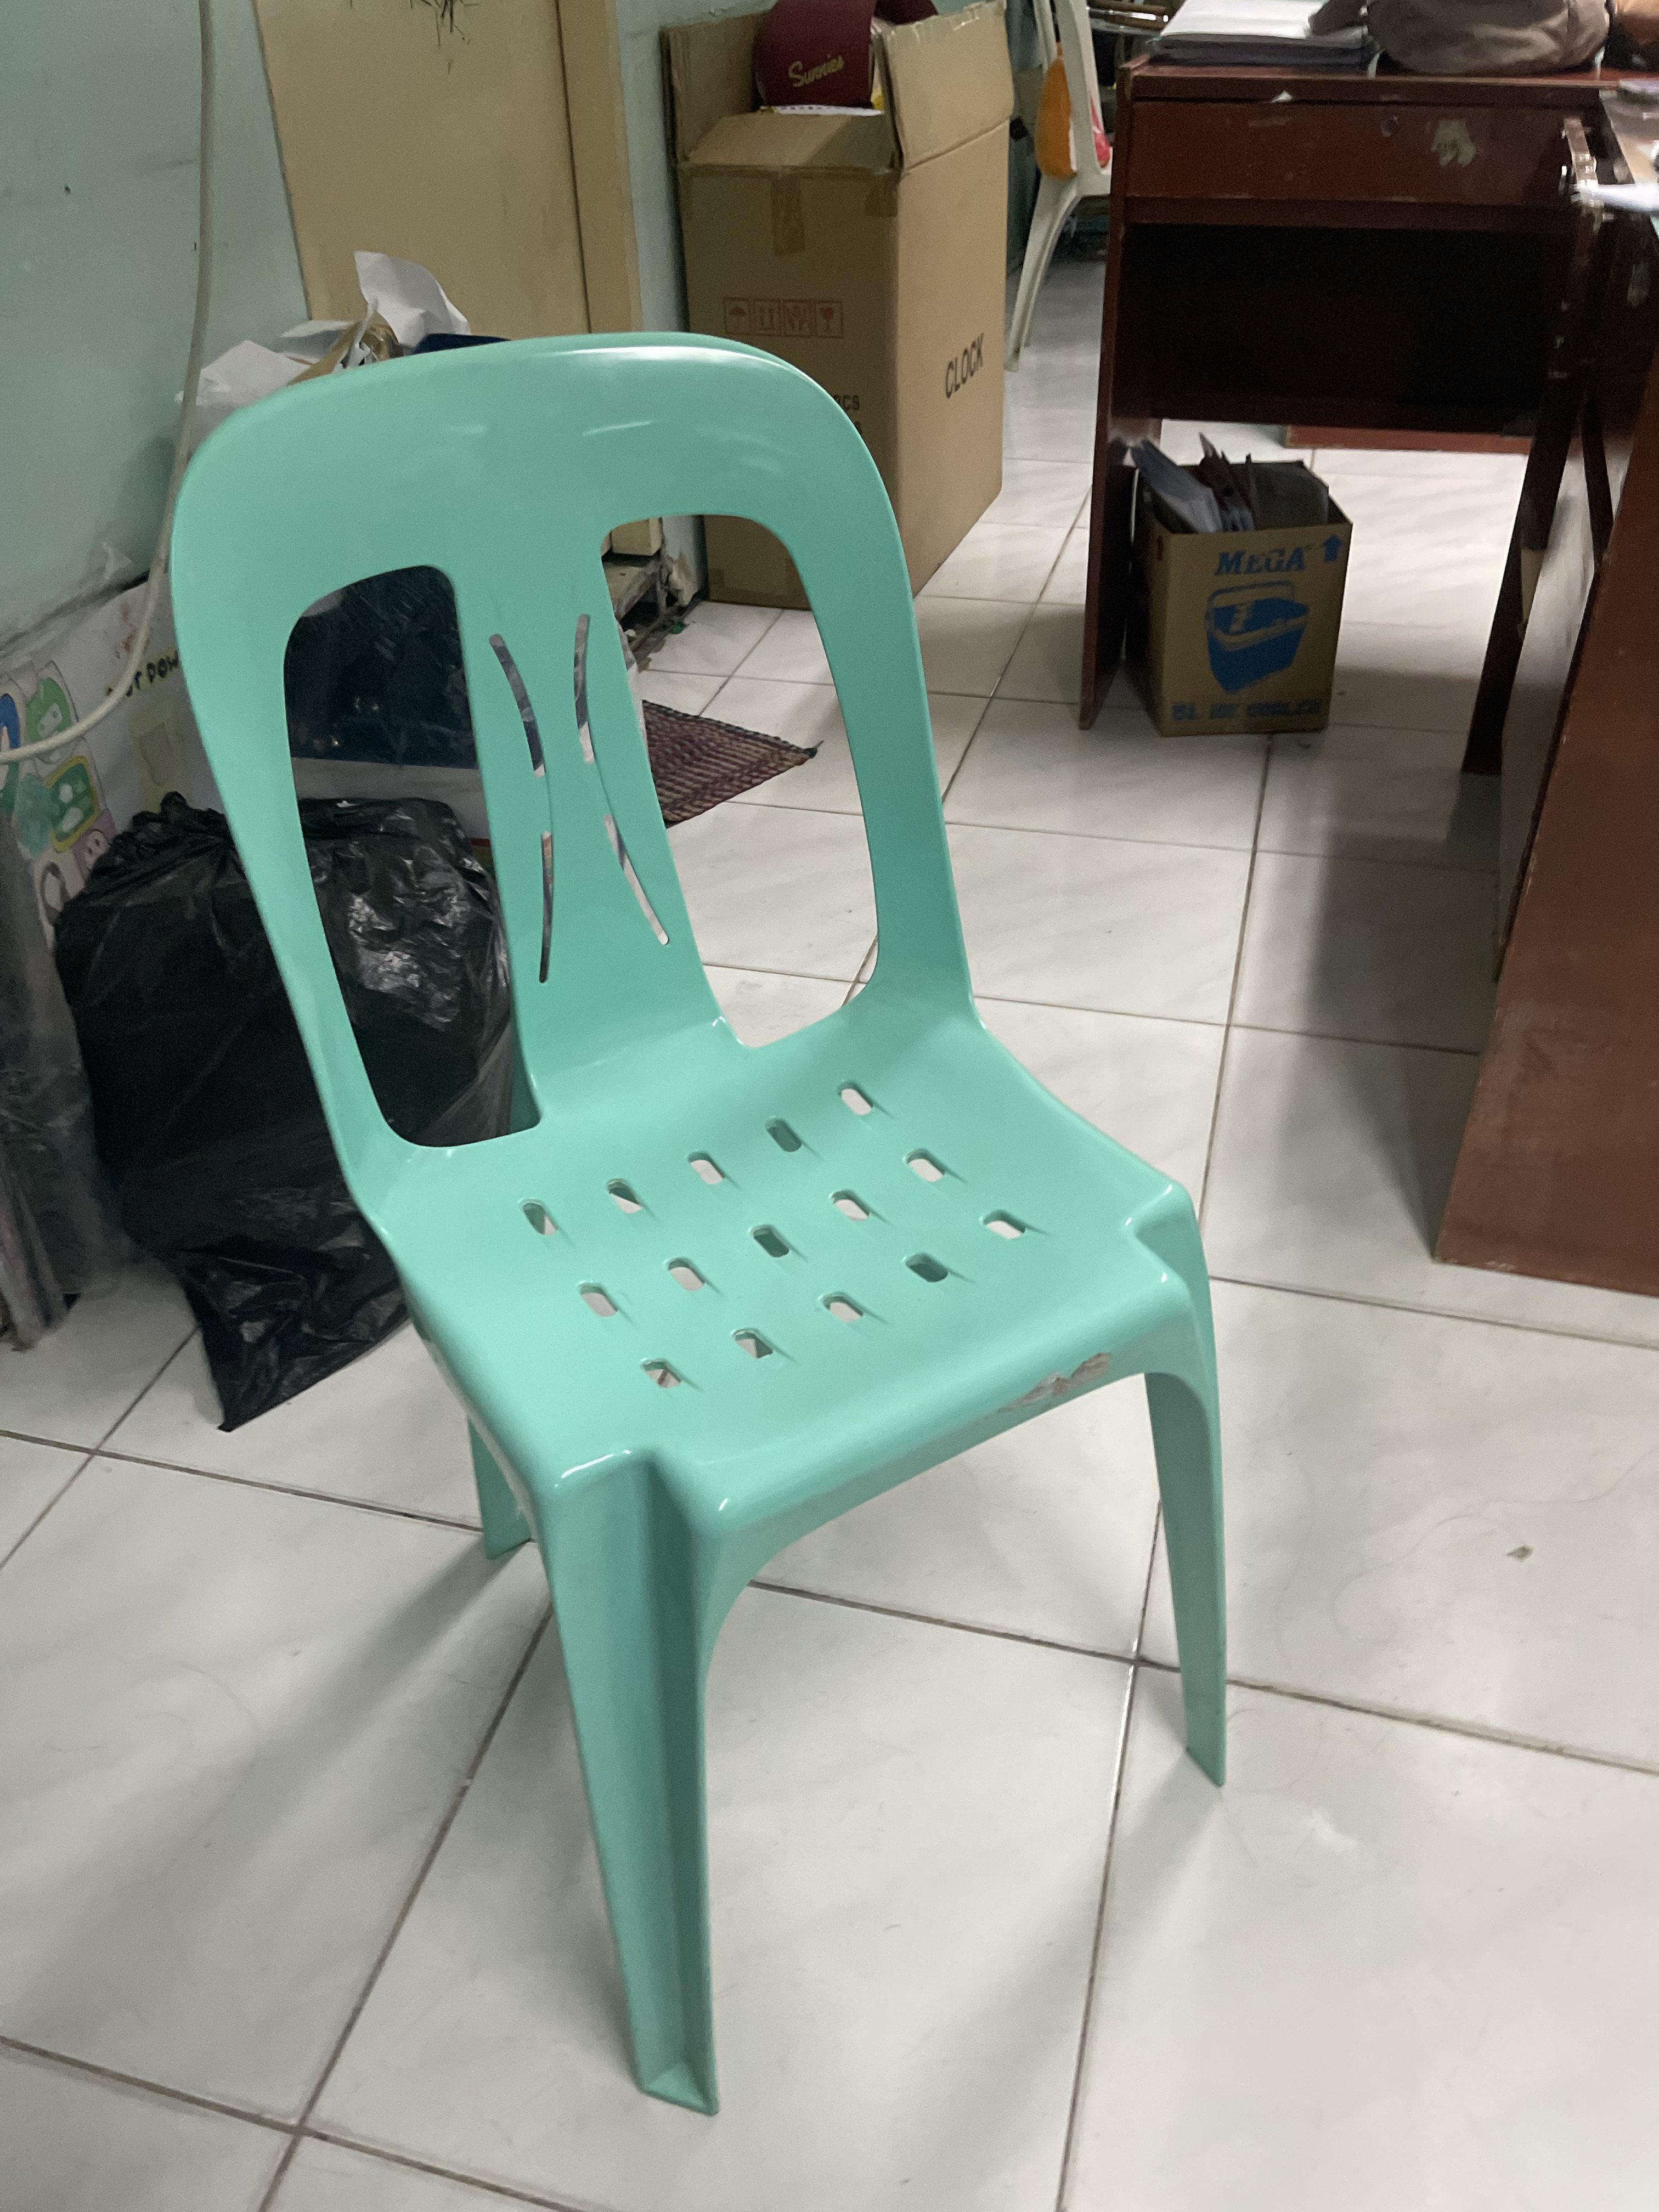chair2: (157, 322, 1246, 2113)
